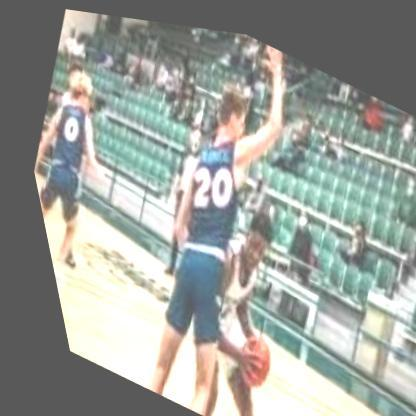basketball: (204, 310, 273, 390)
